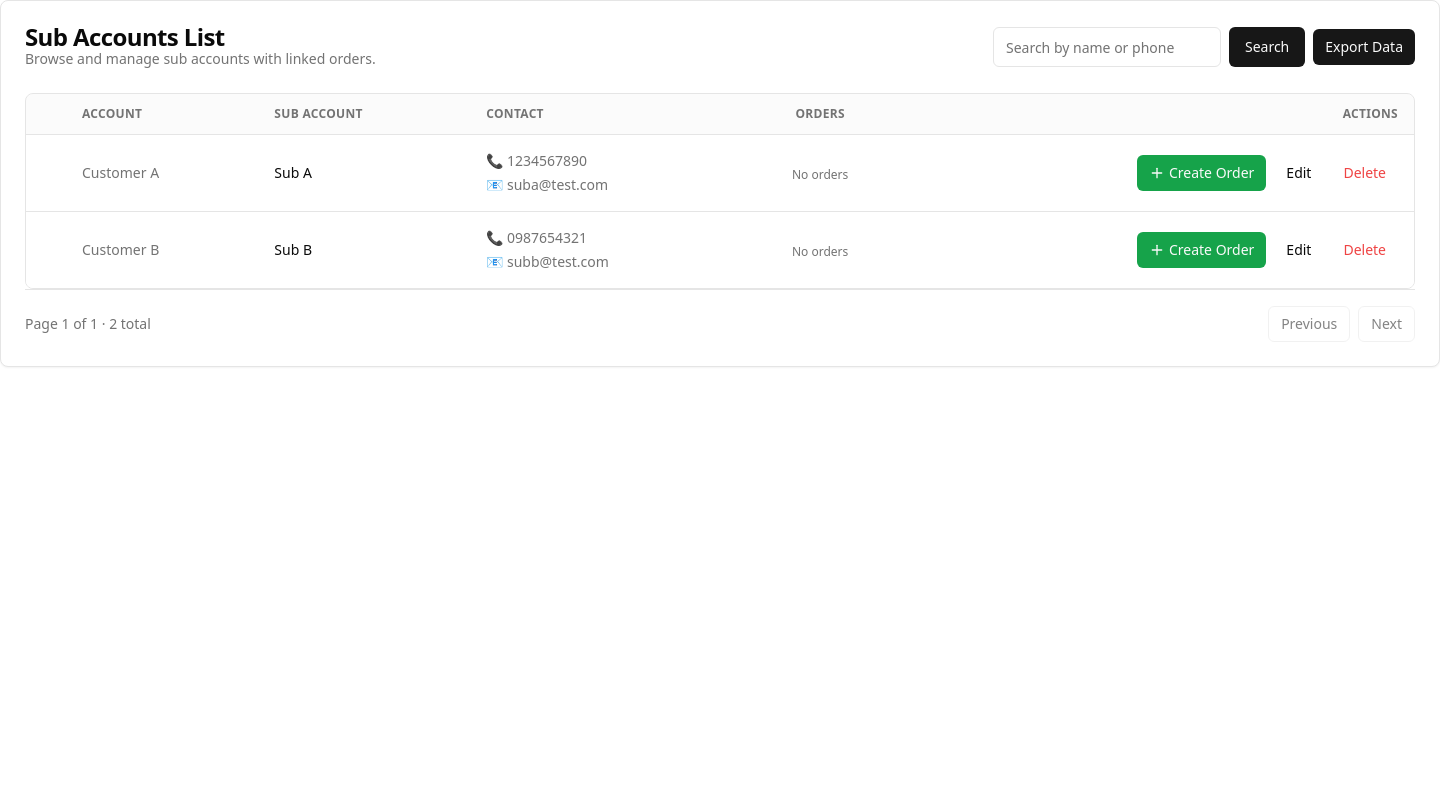
Test: SubAccountsList › Edit Functionality › opens edit dialog when Edit clicked
The width and height of the screenshot is (1440, 810).
expect the text "Sub A" is shown: met, box x1=258 y1=134 x2=470 y2=212
Click the button "Edit" in the row of "Customer A".
click(1299, 173)  # box x1=1274 y1=155 x2=1324 y2=191
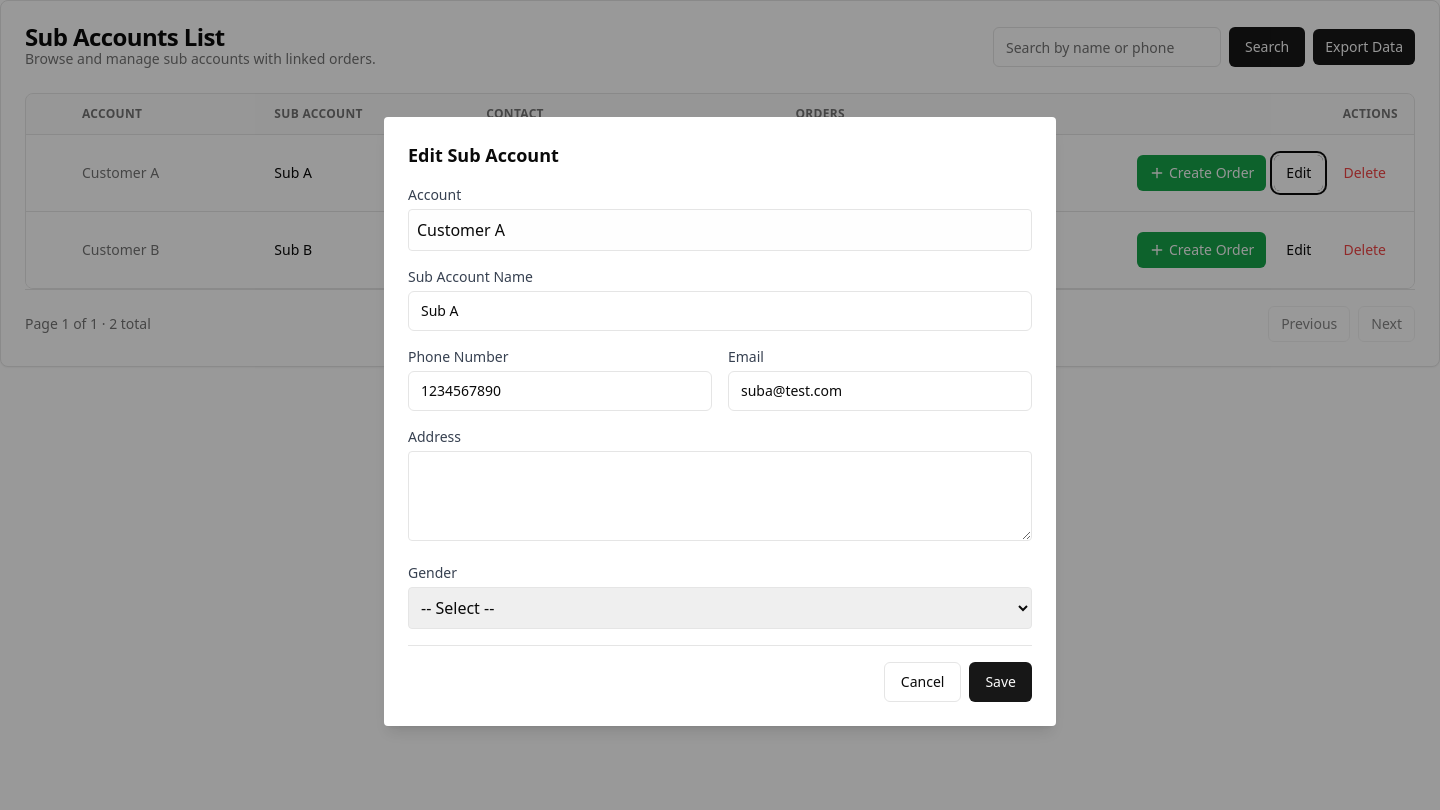
expect the heading "Edit Sub Account" is shown: met, box x1=408 y1=142 x2=559 y2=166
